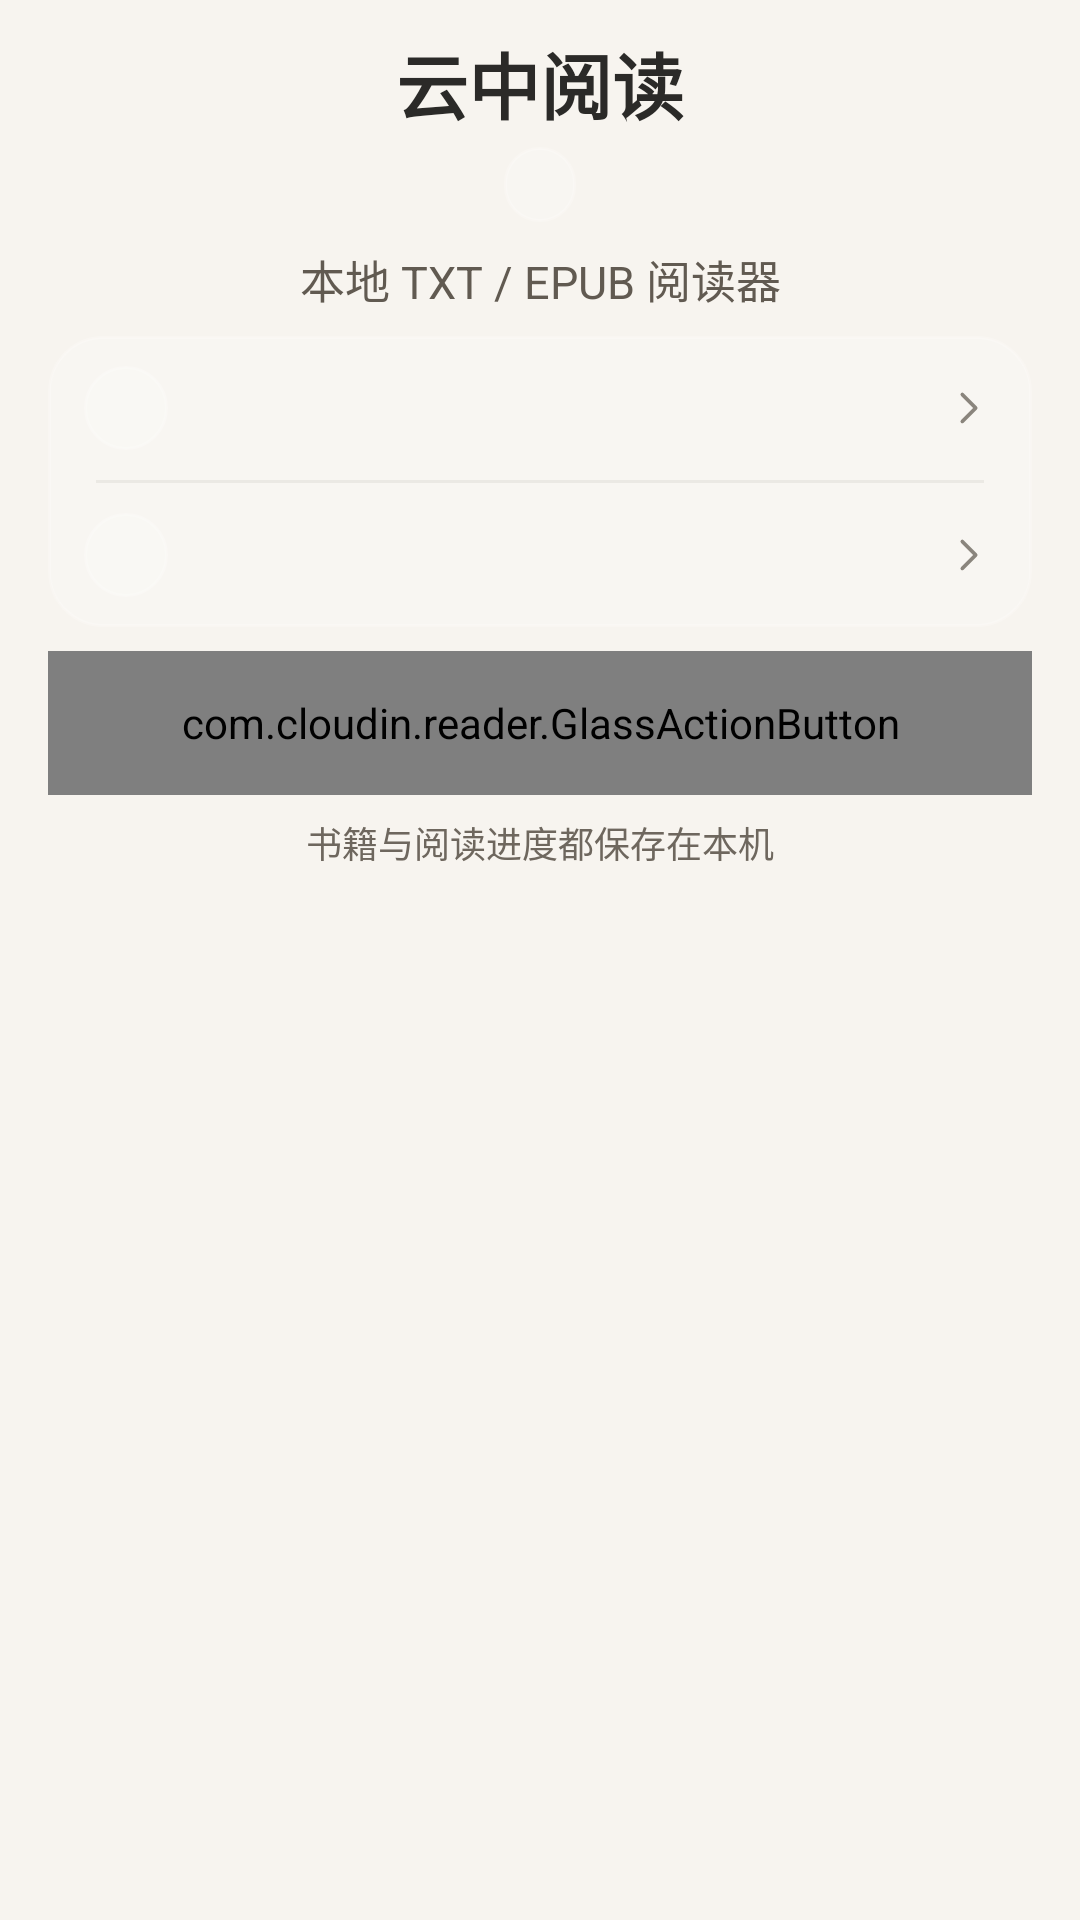

Locate icon controls on the screen. Image size 1080×1920, boxes as box=[x1, y1, x2, y2].
profile chevron: box=[960, 392, 978, 424], box=[960, 539, 978, 571]
